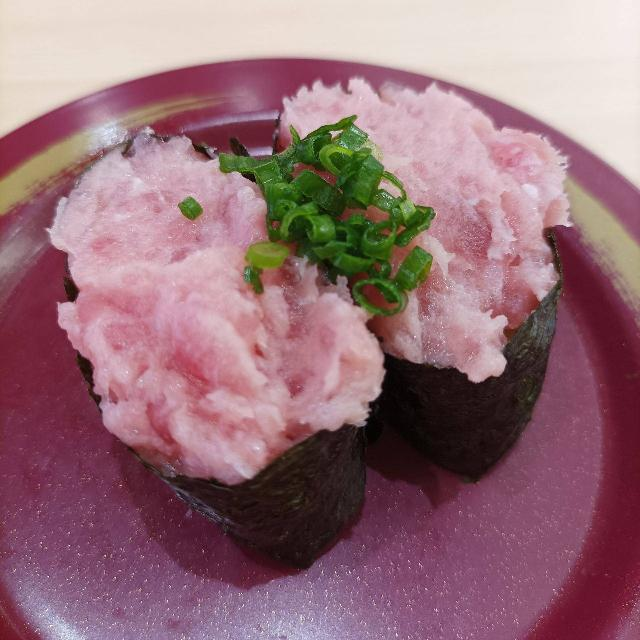janred: (0, 61, 640, 628)
